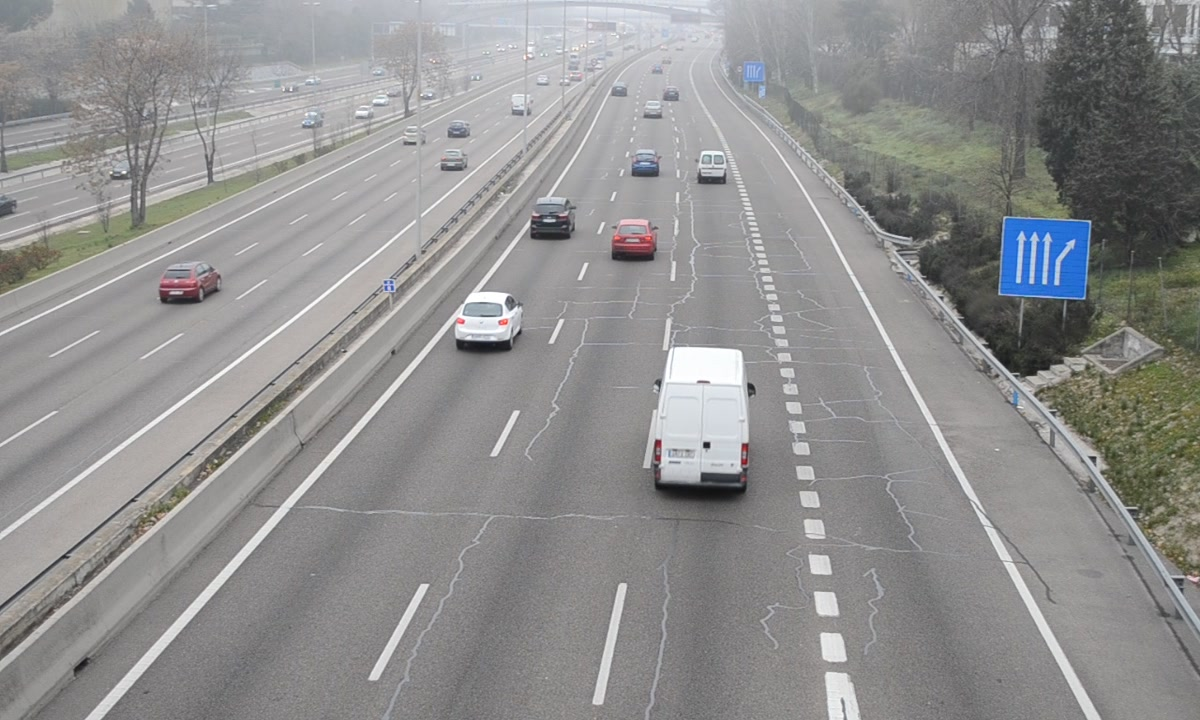car: (456, 293, 522, 345), (612, 219, 656, 259), (530, 198, 574, 237), (631, 149, 660, 174)
van: (653, 347, 749, 492), (697, 150, 729, 186)
